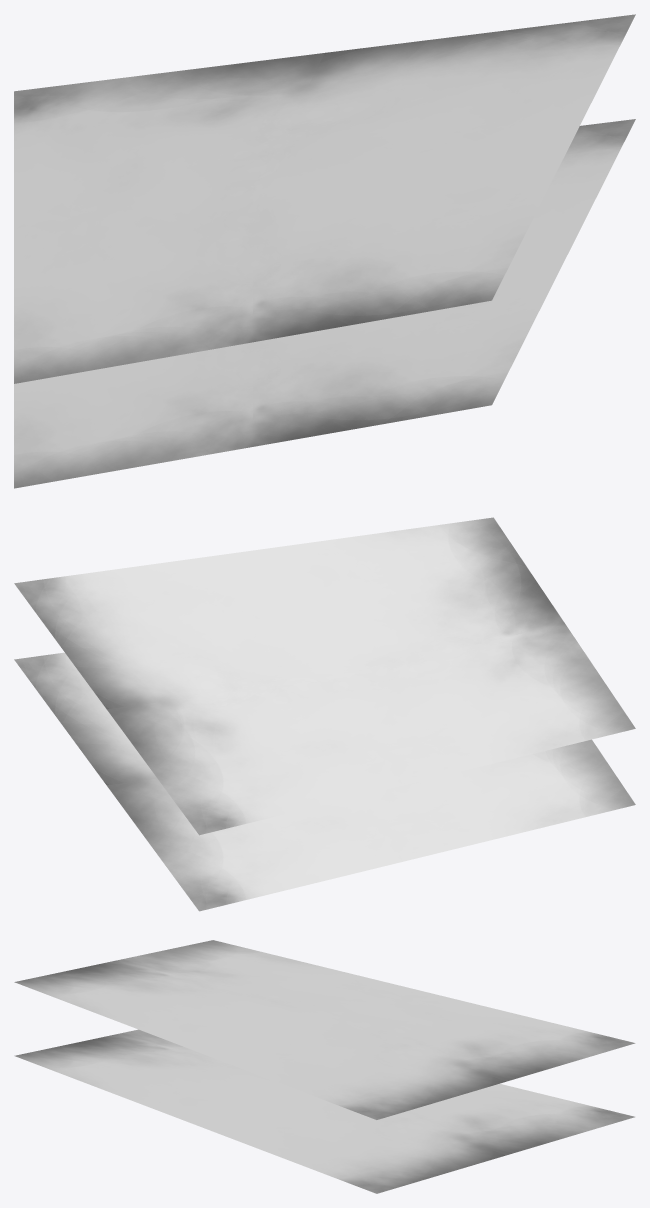
File: CourseWinter_CurveFloor_7_5.fbx
3 renders of one model, top to bottom at view 1: azimuth 30°, elevation 25°; view 2: azimuth 150°, elevation 25°; view 3: azimuth 270°, elevation 25°, orthographic. The views are drawn at different scales.
Visible parts, largest first — view 1: polySurface699; view 2: polySurface699; view 3: polySurface699.
Part boxes in pixels (box(x1,y1,x2,y2)): polySurface699: box(14, 14, 635, 488); polySurface699: box(14, 517, 635, 911); polySurface699: box(14, 940, 635, 1193).
Size of the model in its own units: 7.38 by 2 by 7.64.
Materials: 1 (1 with a texture image).
